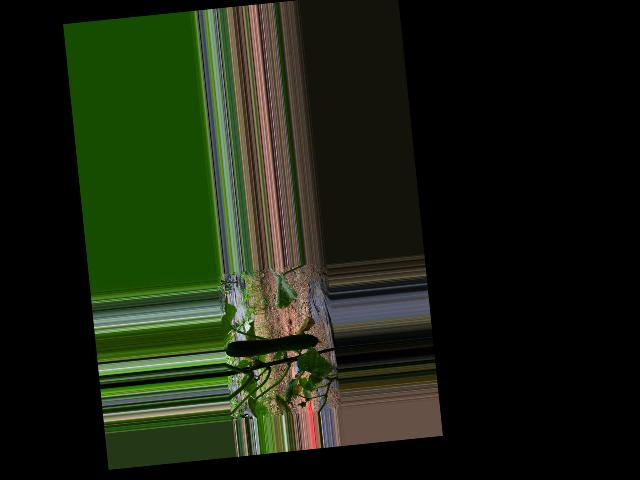cucumber: (225, 331, 322, 358)
